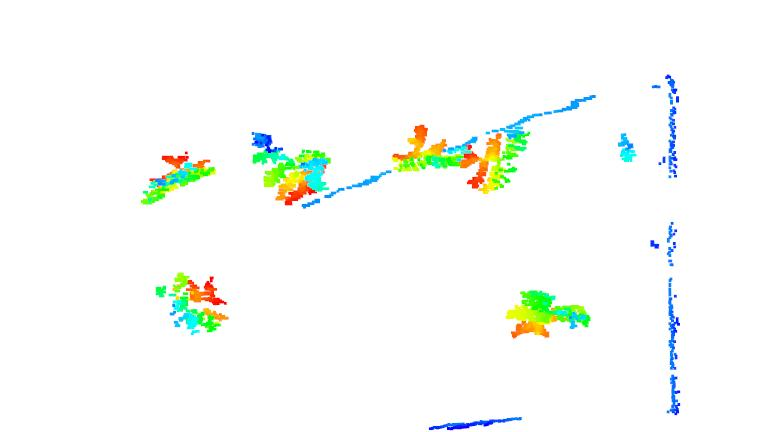chickpea: (248, 129, 333, 209), (459, 121, 534, 192), (153, 269, 231, 335), (137, 147, 219, 207), (508, 289, 593, 340), (390, 124, 461, 177)
